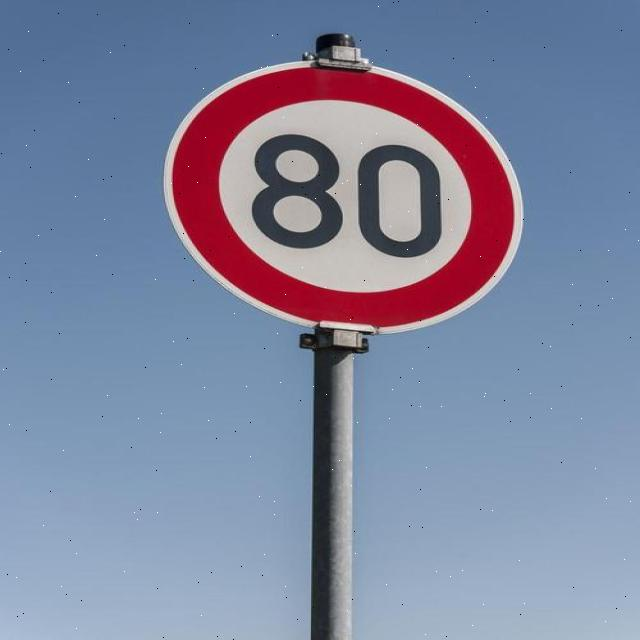speed limit 80: (164, 54, 525, 335)
